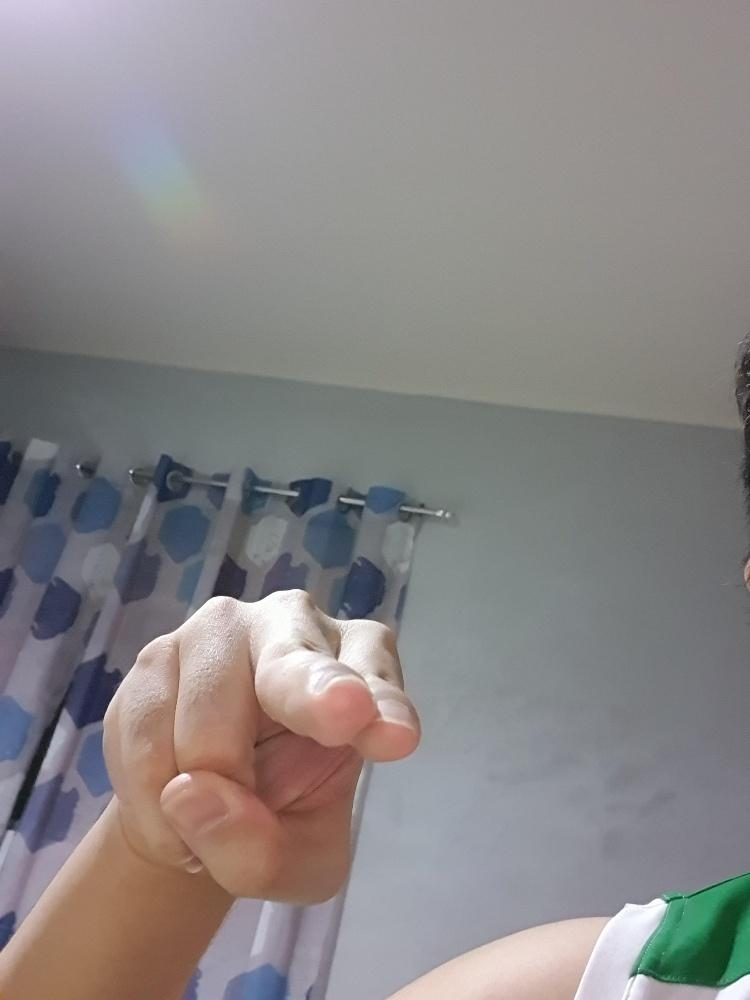n: (97, 583, 423, 914)
